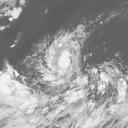cyclone: (49, 40, 76, 74)
